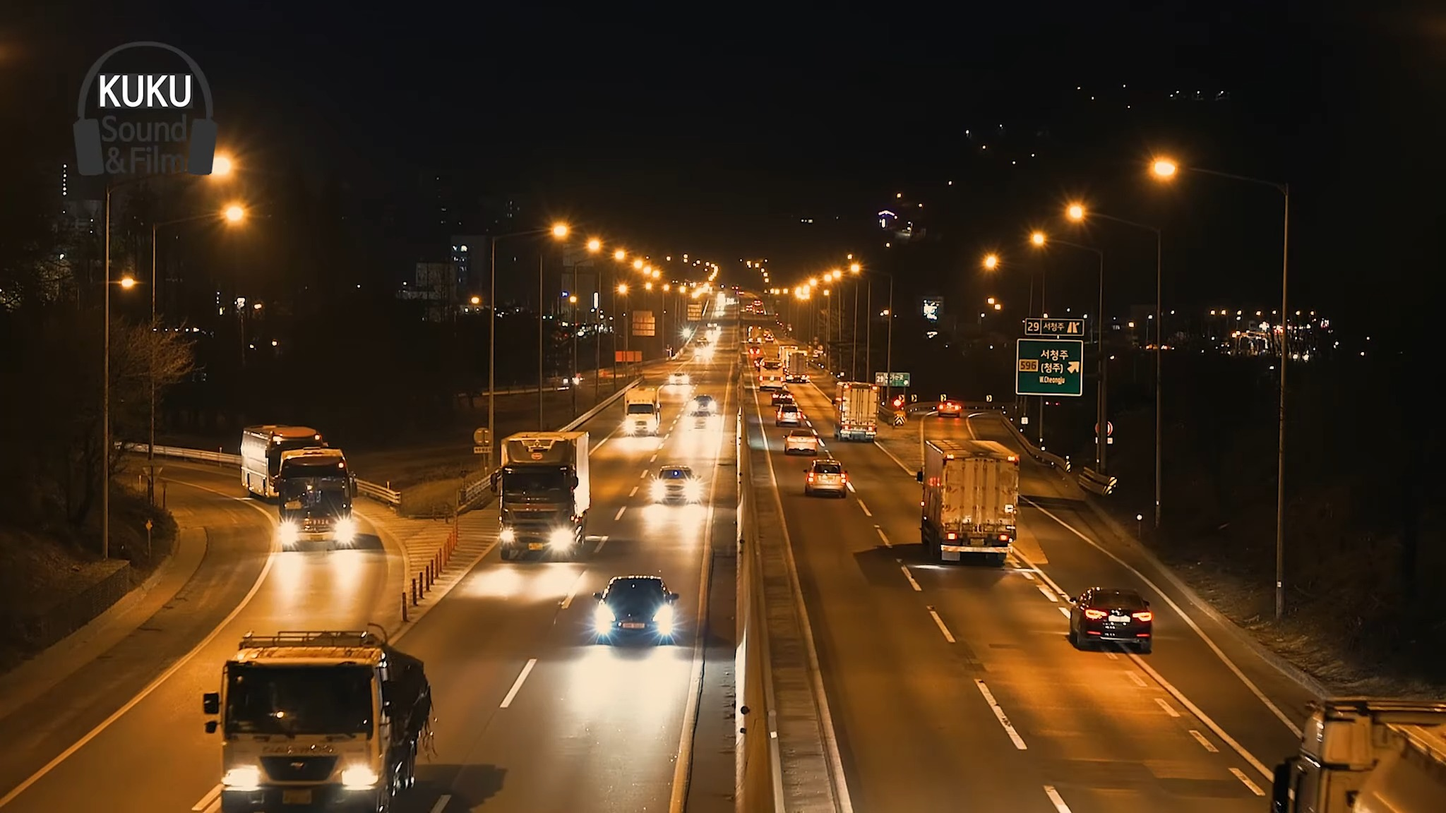car: (1068, 590, 1159, 659), (595, 577, 677, 646), (648, 461, 701, 504), (803, 461, 849, 494)
truck: (212, 632, 428, 813), (918, 433, 1024, 567), (495, 429, 596, 564), (270, 456, 359, 555)
